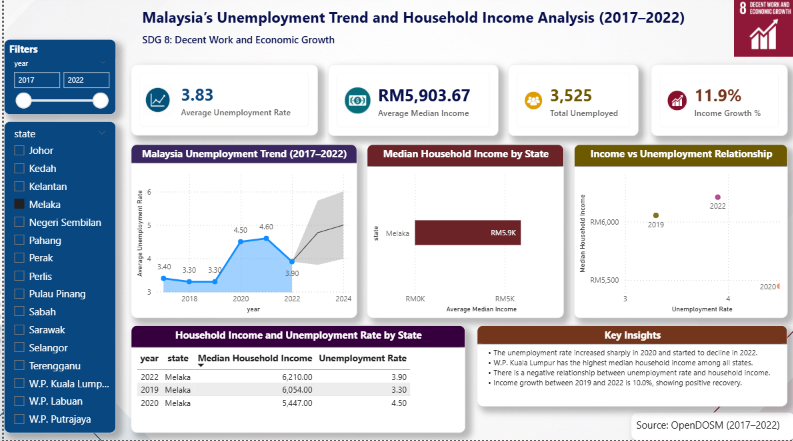

The dashboard page shown, as its layout file describes it:
{"tool":"powerbi","page":{"name":"Malaysia Unemployment & Household Income Dashboard","canvas":[1280,720],"ordinal":0},"visuals":[{"type":"slicer","title":"Filters","fields":{"Values":["Dim_Year.year"]},"box":[0,70.9,181.4,122.1],"z":0},{"type":"cardVisual","fields":{"Data":["Fact_Unemployment.Average Unemployment Rate"]},"box":[205,112.5,302.5,115],"z":1000},{"type":"cardVisual","fields":{"Data":["Fact_HouseholdIncome.Average Median Income"]},"box":[525,112.5,276.2,116.2],"z":2000},{"type":"cardVisual","fields":{"Data":["Fact_Unemployment.Total Unemployed"]},"box":[816.2,112.5,211.2,116.2],"z":3000},{"type":"lineChart","title":"Malaysia Unemployment Trend (2017–2022)","fields":{"Category":["Dim_Year.year"],"Y":["Fact_Unemployment.Average Unemployment Rate"]},"box":[205,241.2,366.2,281.2],"z":4000},{"type":"clusteredBarChart","title":"Median Household Income by State","fields":{"Category":["Fact_HouseholdIncome.state"],"Y":["Fact_HouseholdIncome.Average Median Income"]},"box":[587.5,241.2,318.8,281.2],"z":5000},{"type":"slicer","fields":{"Values":["Fact_HouseholdIncome.state"]},"box":[0,203.5,181.4,504.7],"z":6000},{"type":"textbox","box":[218.8,12.5,892.5,51.2],"z":7000},{"type":"textbox","box":[218.8,55,342.5,46.2],"z":8000},{"type":"scatterChart","title":"Income vs Unemployment Relationship","fields":{"X":["Fact_Unemployment.Average Unemployment Rate"],"Y":["Fact_HouseholdIncome.Average Median Income"],"Category":["Dim_Year.year"]},"box":[922.5,241.2,346.2,281.2],"z":9000},{"type":"tableEx","title":"Household Income and Unemployment Rate by State","fields":{"Values":["Dim_Year.year","Fact_HouseholdIncome.state","Sum(Fact_HouseholdIncome.income_median)","Sum(Fact_Unemployment.u_rate)"]},"box":[205,535,541.2,173.8],"z":10000},{"type":"cardVisual","fields":{"Data":["Fact_HouseholdIncome.Income Growth %","Fact_HouseholdIncome.Income Growth %"]},"box":[1047.5,112.5,221.2,116.2],"z":11000},{"type":"textbox","box":[1015,675,265,45],"z":12000},{"type":"image","box":[1182.5,0,97.5,101.2],"z":13000},{"type":"textbox","title":"Key Insights","box":[766.2,535,502.5,131.2],"z":14000}]}

Visuals, with their boxes in screenshot pixels (x1, y1, x2, y2), scaled from the page's 1280x720 canvas onto the 793x441 screenshot:
"Filters" slicer: left=0, top=43, right=112, bottom=118
cardVisual - Fact_Unemployment.Average Unemployment Rate: left=127, top=69, right=314, bottom=139
cardVisual - Fact_HouseholdIncome.Average Median Income: left=325, top=69, right=496, bottom=140
cardVisual - Fact_Unemployment.Total Unemployed: left=506, top=69, right=637, bottom=140
"Malaysia Unemployment Trend (2017–2022)" lineChart: left=127, top=148, right=354, bottom=320
"Median Household Income by State" clusteredBarChart: left=364, top=148, right=561, bottom=320
slicer - Fact_HouseholdIncome.state: left=0, top=125, right=112, bottom=434
textbox: left=136, top=8, right=688, bottom=39
textbox: left=136, top=34, right=348, bottom=62
"Income vs Unemployment Relationship" scatterChart: left=572, top=148, right=786, bottom=320
"Household Income and Unemployment Rate by State" tableEx: left=127, top=328, right=462, bottom=434
cardVisual - Fact_HouseholdIncome.Income Growth % x Fact_HouseholdIncome.Income Growth %: left=649, top=69, right=786, bottom=140
textbox: left=629, top=413, right=792, bottom=440
image: left=733, top=0, right=792, bottom=62
"Key Insights" textbox: left=475, top=328, right=786, bottom=408
